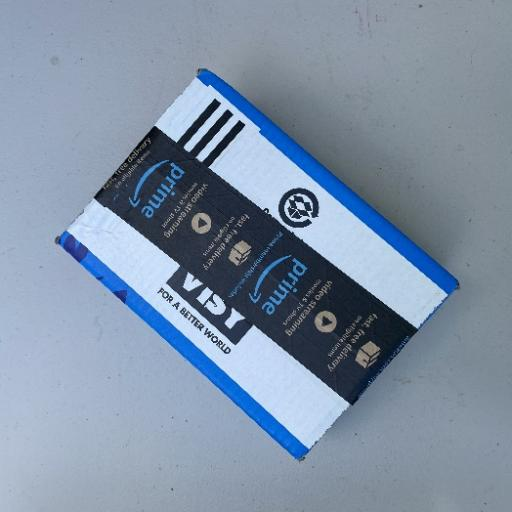Cardboard: (54, 67, 461, 461)
